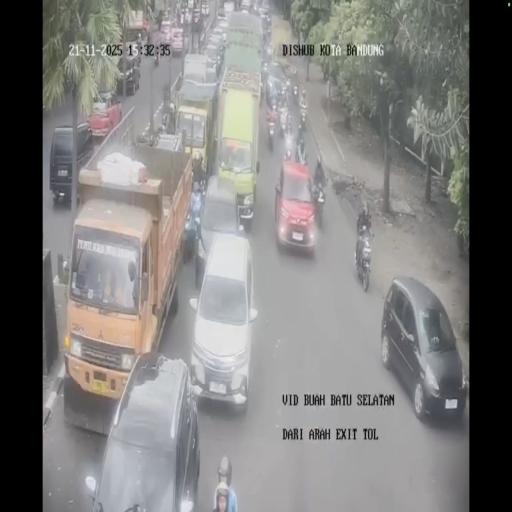car: (380, 280, 466, 424), (196, 174, 242, 278), (274, 159, 317, 255), (49, 124, 93, 204), (116, 54, 140, 95), (203, 40, 225, 79), (170, 23, 185, 55), (258, 4, 271, 32), (160, 14, 172, 43), (216, 15, 230, 38), (192, 2, 203, 24), (217, 3, 227, 18), (240, 0, 251, 12)
motorcycle: (356, 242, 372, 292), (312, 176, 326, 226), (283, 125, 294, 160), (266, 108, 276, 146), (296, 134, 307, 166), (260, 58, 270, 93), (278, 106, 288, 137), (277, 82, 287, 111), (290, 77, 300, 104), (132, 41, 142, 68), (298, 105, 307, 133), (154, 39, 160, 66)
truck: (63, 137, 193, 414), (173, 62, 218, 179), (220, 10, 264, 87), (123, 8, 146, 47)
